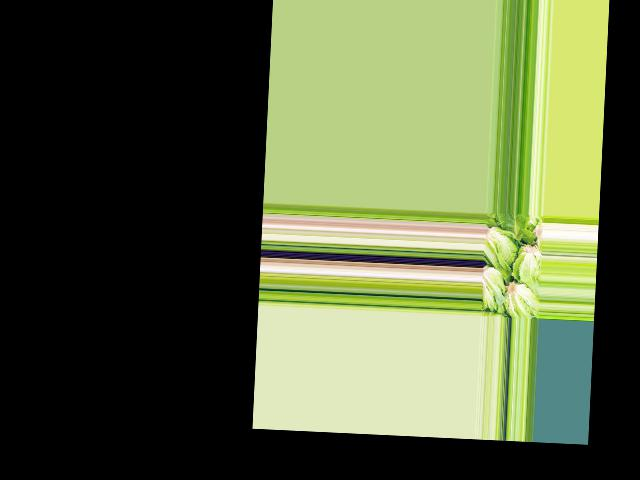lettuce: (504, 212, 529, 238)
